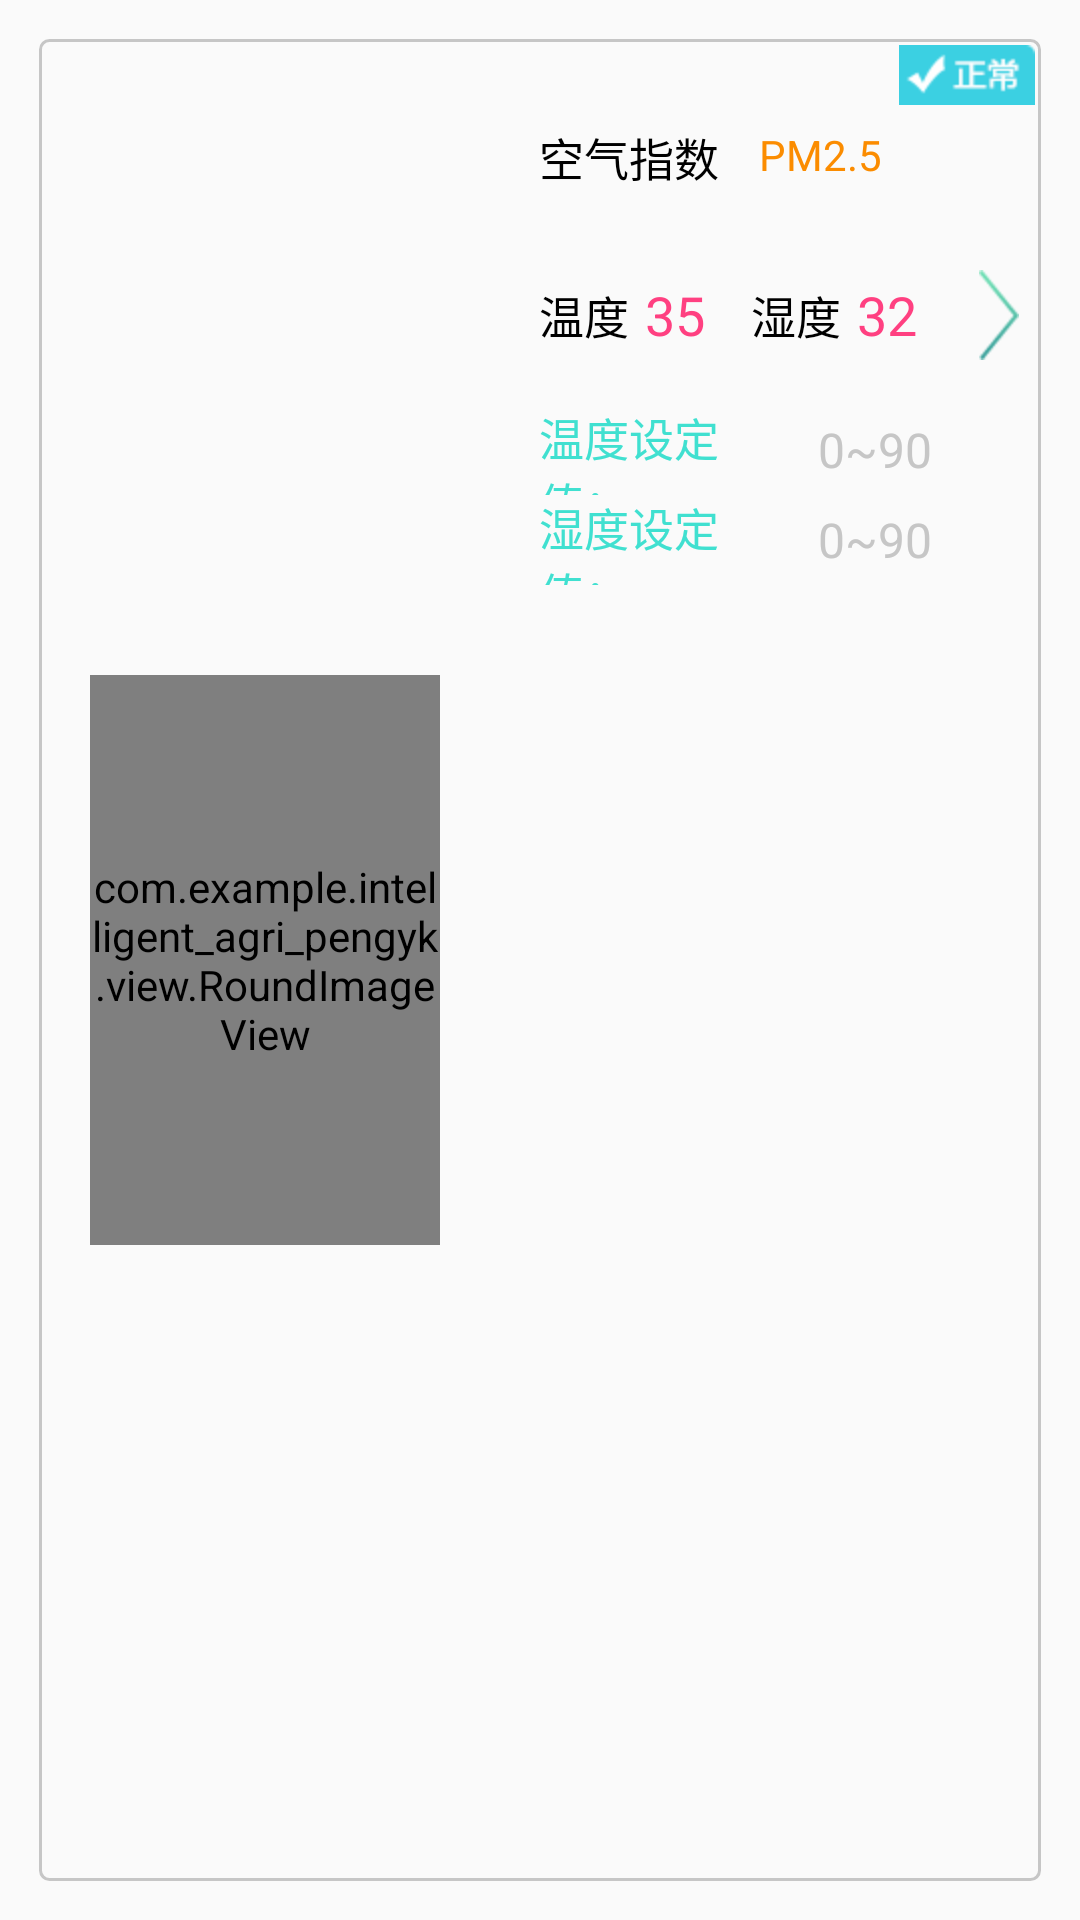

Named icons in this screenshot (1080*1920) and their bounding boxes, (x1, y1, x2, y2):
right: (979, 270, 1019, 360)
